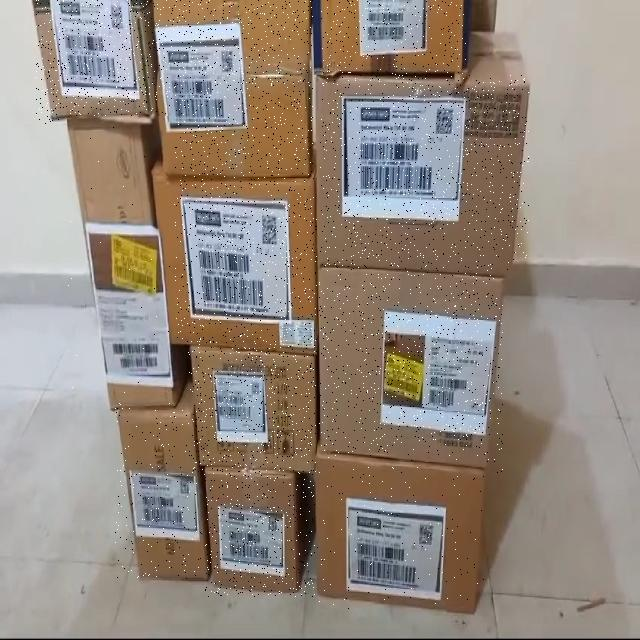BoxFace: (320, 73, 529, 270), (319, 262, 503, 474), (68, 116, 176, 412), (153, 174, 317, 358), (150, 0, 313, 182), (317, 456, 487, 609), (189, 338, 316, 476), (115, 403, 206, 580), (36, 0, 152, 124), (204, 472, 315, 597), (320, 0, 466, 75)
